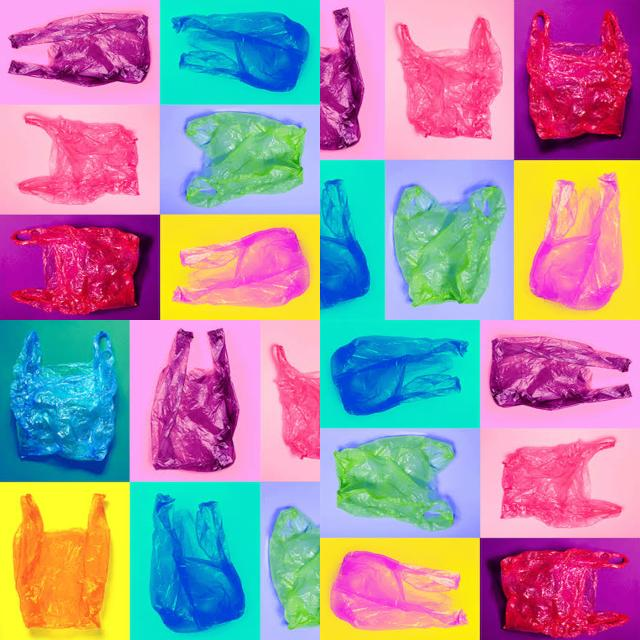Single-layer Plastic: (10, 331, 118, 461), (526, 10, 631, 139), (394, 186, 506, 306), (150, 494, 245, 632), (529, 172, 624, 309), (14, 494, 110, 629), (396, 18, 502, 138), (151, 329, 239, 471), (186, 112, 306, 208), (11, 225, 139, 315), (334, 435, 454, 531), (501, 549, 629, 638), (171, 11, 309, 91), (331, 335, 468, 415), (172, 229, 310, 308), (331, 551, 468, 630), (19, 114, 139, 204), (501, 438, 621, 528), (9, 12, 150, 86), (490, 336, 631, 410), (320, 179, 370, 308), (320, 8, 364, 150), (269, 508, 320, 628), (271, 344, 320, 459)
